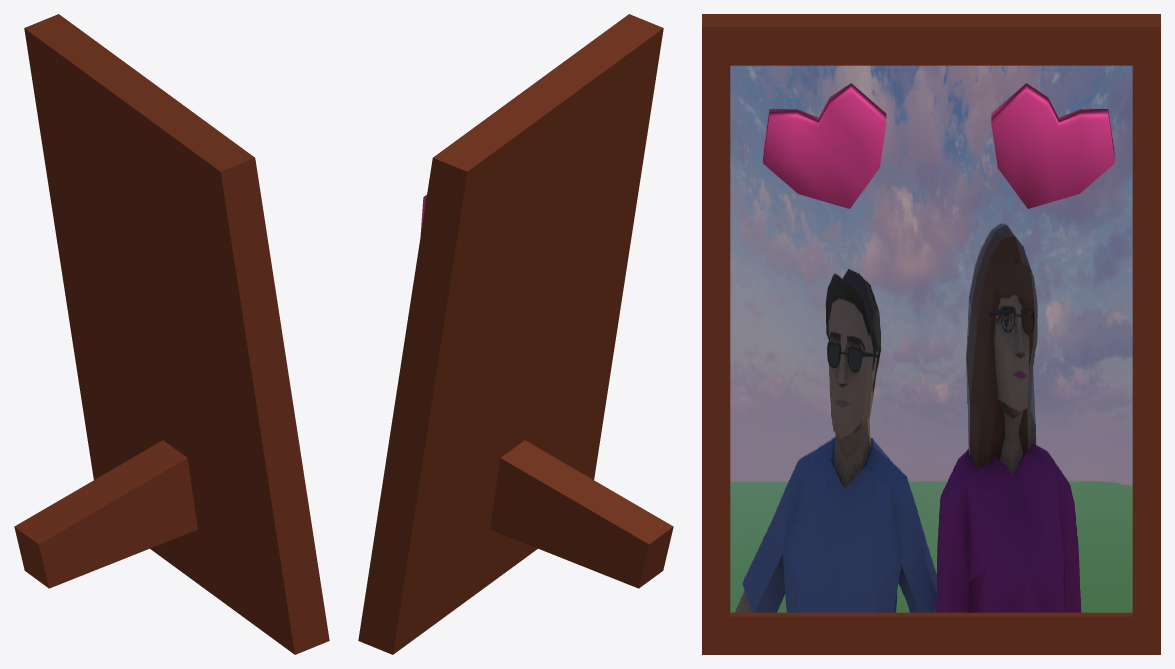
The model's file is Retratoo.fbx.
The picture shows the model from 3 angles, left to right: view 1: azimuth 30°, elevation 25°; view 2: azimuth 150°, elevation 25°; view 3: azimuth 270°, elevation 25°; orthographic projection. The views are drawn at different scales.
Visible parts, largest first — view 1: Cube; view 2: Cube; view 3: Cube.
Part boxes in pixels (x1,y1,x2,y2): Cube: [14, 14, 329, 654]; Cube: [358, 14, 673, 654]; Cube: [702, 14, 1160, 654].
Bounding box in the file's own units: 303 × 717 × 503.
